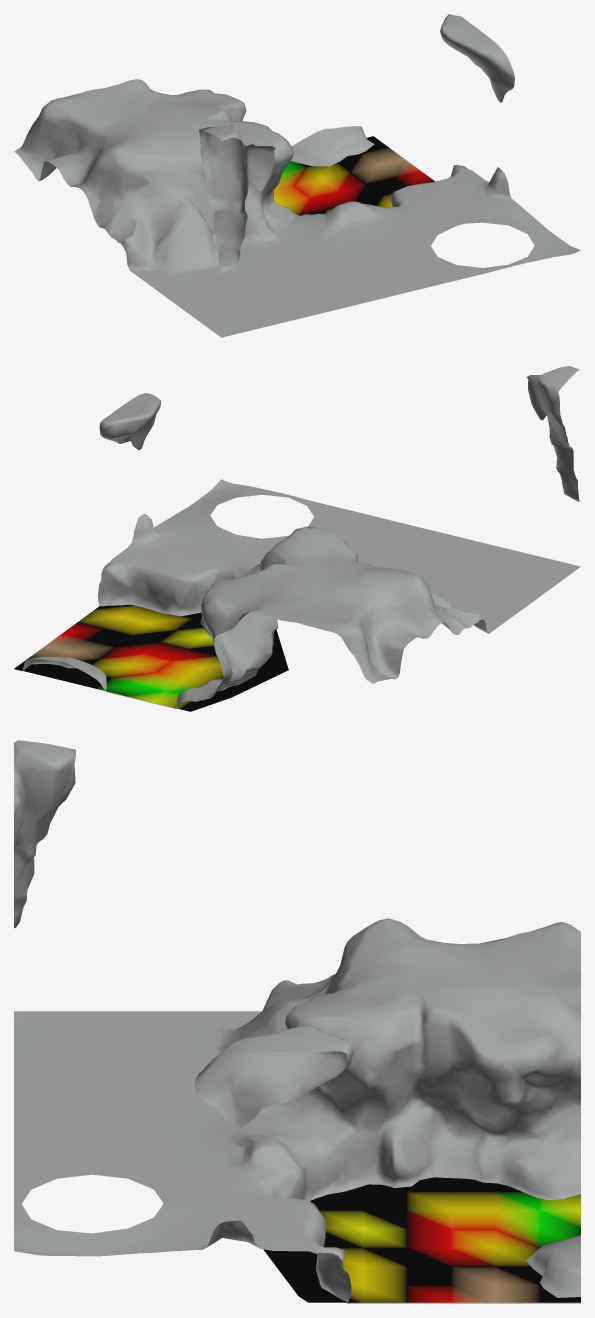
The picture shows the model from 3 angles, top to bottom: view 1: azimuth 30°, elevation 25°; view 2: azimuth 150°, elevation 25°; view 3: azimuth 270°, elevation 25°; orthographic projection. The views are drawn at different scales.
Parts seen in each view (by area): view 1: G:\FFXIV-MapTools\exports\l1f1\bg\ffxiv\lak_l1\fld\l1f1\bgpl (×12); view 2: G:\FFXIV-MapTools\exports\l1f1\bg\ffxiv\lak_l1\fld\l1f1\bgpl (×13); view 3: G:\FFXIV-MapTools\exports\l1f1\bg\ffxiv\lak_l1\fld\l1f1\bgpl (×14).
Boxes of the visible parts, <box> form: G:\FFXIV-MapTools\exports\l1f1\bg\ffxiv\lak_l1\fld\l1f1\bgpl (×12): <box>14,14,580,337</box>; G:\FFXIV-MapTools\exports\l1f1\bg\ffxiv\lak_l1\fld\l1f1\bgpl (×13): <box>14,366,580,711</box>; G:\FFXIV-MapTools\exports\l1f1\bg\ffxiv\lak_l1\fld\l1f1\bgpl (×14): <box>14,740,580,1303</box>.
Bounding box in the file's own units: 128 × 80.88 × 128.
